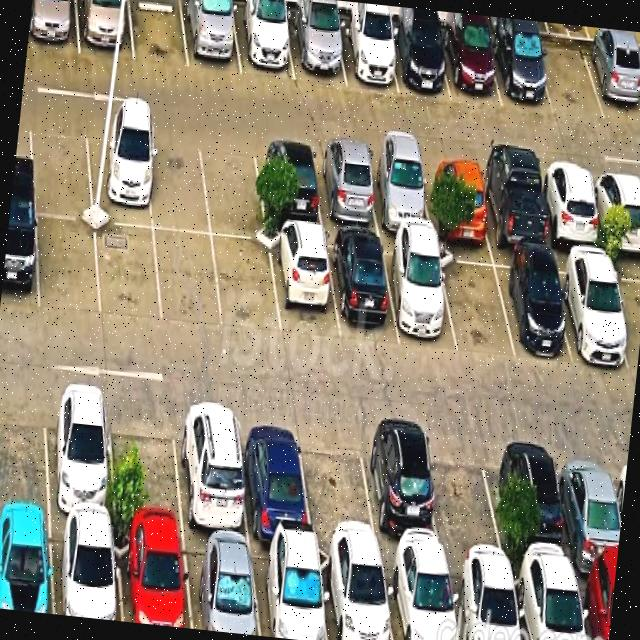empty: (427, 427, 506, 566), (299, 417, 379, 552), (109, 393, 184, 532), (437, 247, 514, 357), (199, 134, 266, 240), (154, 229, 222, 328), (146, 128, 210, 233), (96, 222, 161, 325), (212, 237, 280, 334), (29, 114, 92, 218), (0, 382, 49, 514), (37, 215, 100, 315), (535, 37, 604, 119), (129, 0, 188, 67), (609, 256, 640, 371)
occupied: (359, 423, 445, 559), (174, 401, 249, 539), (237, 408, 312, 542), (44, 384, 115, 523), (502, 433, 574, 570), (552, 252, 631, 366), (556, 439, 621, 573), (382, 239, 457, 351), (492, 251, 571, 357), (326, 233, 399, 341), (182, 534, 260, 635), (269, 228, 339, 338), (115, 527, 191, 628), (250, 542, 327, 640), (51, 519, 121, 621), (85, 121, 152, 227), (318, 548, 393, 640), (477, 160, 549, 250), (382, 557, 458, 640), (421, 155, 491, 242), (254, 140, 323, 227), (447, 560, 521, 640), (365, 149, 433, 234), (312, 145, 380, 230), (537, 165, 603, 249), (511, 566, 585, 640), (489, 28, 553, 113), (0, 515, 53, 614), (439, 24, 502, 106), (231, 2, 295, 80), (386, 23, 450, 99), (582, 40, 640, 123), (334, 17, 398, 92), (181, 0, 241, 74), (590, 168, 640, 252), (287, 12, 345, 84), (0, 207, 38, 310), (76, 0, 134, 59), (574, 570, 615, 640), (27, 0, 79, 53)
